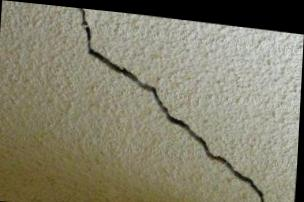crack: (78, 6, 268, 202)
